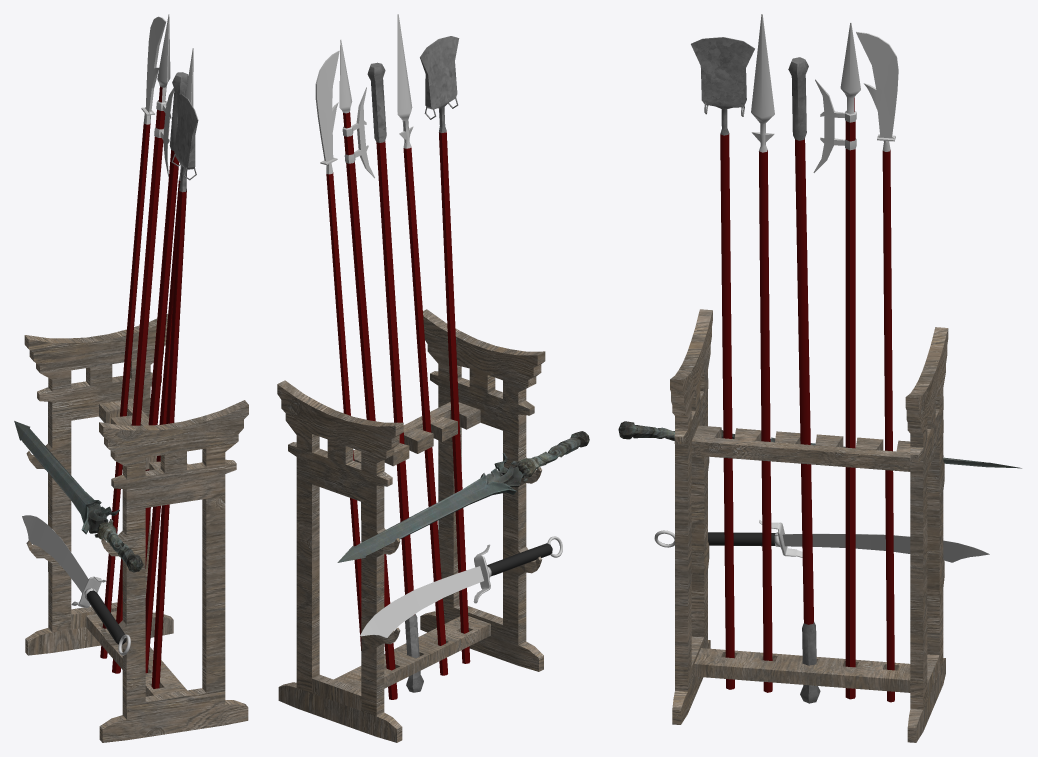
File: weapons_rack.fbx
3 renders of one model, left to right at view 1: azimuth 30°, elevation 25°; view 2: azimuth 150°, elevation 25°; view 3: azimuth 270°, elevation 25°, orthographic. The views are drawn at different scales.
Parts seen in each view (by area): view 1: rack, MonkSpade, Ji, GuanDao, LongStick, player_sword1, knife1, Earspoon; view 2: rack, MonkSpade, LongStick, Earspoon, Ji, player_sword1, GuanDao, knife1; view 3: rack, MonkSpade, Ji, LongStick, GuanDao, Earspoon, knife1, player_sword1.
Boxes of the visible parts, bbox=[...] form: rack: bbox=[24, 314, 248, 742]; MonkSpade: bbox=[151, 94, 198, 688]; Ji: bbox=[112, 14, 174, 673]; GuanDao: bbox=[100, 16, 166, 658]; LongStick: bbox=[145, 72, 188, 568]; player_sword1: bbox=[14, 421, 143, 572]; knife1: bbox=[22, 515, 130, 655]; Earspoon: bbox=[145, 48, 193, 673]; rack: bbox=[277, 309, 545, 742]; MonkSpade: bbox=[420, 36, 470, 663]; LongStick: bbox=[367, 62, 423, 692]; Earspoon: bbox=[397, 14, 447, 675]; Ji: bbox=[339, 39, 397, 699]; player_sword1: bbox=[337, 431, 589, 562]; GuanDao: bbox=[315, 50, 361, 650]; knife1: bbox=[360, 536, 562, 637]; rack: bbox=[670, 309, 948, 742]; MonkSpade: bbox=[691, 37, 754, 689]; Ji: bbox=[813, 22, 860, 699]; LongStick: bbox=[788, 57, 820, 703]; GuanDao: bbox=[856, 31, 898, 702]; Earspoon: bbox=[751, 14, 774, 692]; knife1: bbox=[654, 520, 989, 562]; player_sword1: bbox=[618, 421, 1021, 468].
Bounding box in the file's own units: 0.5148 × 1.81 × 0.9378.
